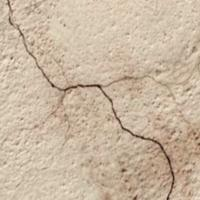crack: (4, 1, 184, 199)
